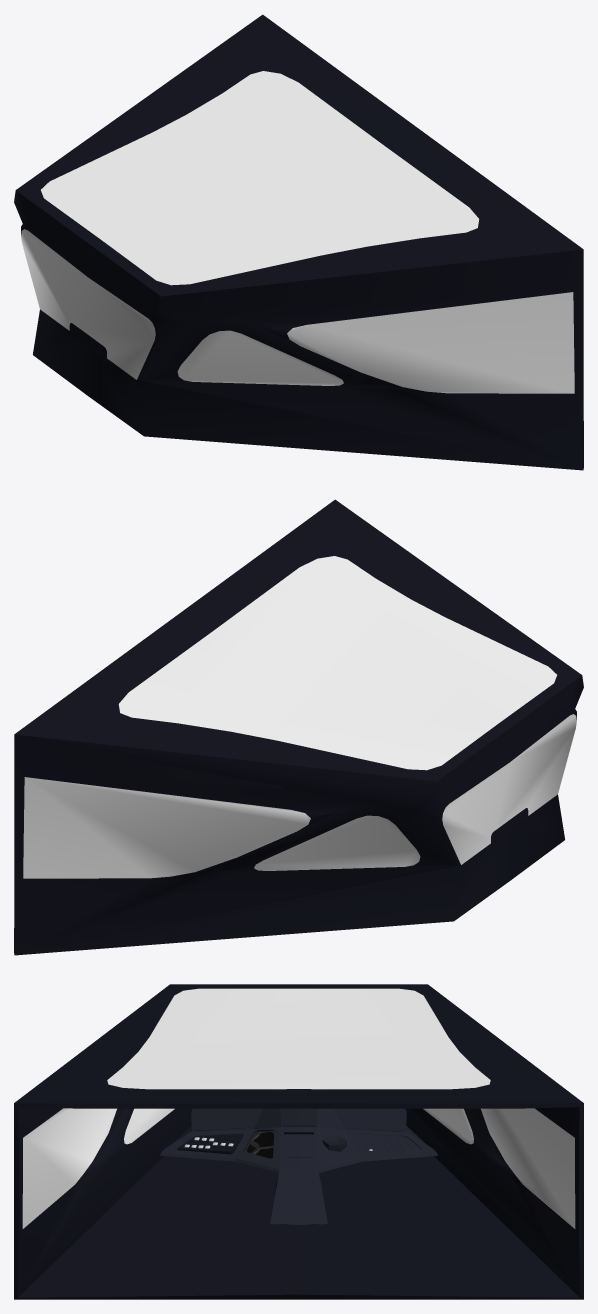
The model's file is Cockpit.glb.
3 renders of one model, top to bottom at view 1: azimuth 30°, elevation 25°; view 2: azimuth 150°, elevation 25°; view 3: azimuth 270°, elevation 25°, orthographic. The views are drawn at different scales.
Visible parts, largest first — view 1: Cockpit; view 2: Cockpit; view 3: Cockpit, Control Center, Keyboard_Plate, Speaker.
Boxes of the visible parts, x1,y1,x2,y2 form: Cockpit: [14, 14, 583, 470]; Cockpit: [14, 499, 583, 955]; Cockpit: [14, 984, 583, 1299]; Control Center: [160, 1108, 437, 1225]; Keyboard_Plate: [177, 1133, 243, 1154]; Speaker: [243, 1129, 276, 1158].
Bounding box in the file's own units: 3.03 × 1.9 × 5.
Materials: 14 (1 with a texture image).
